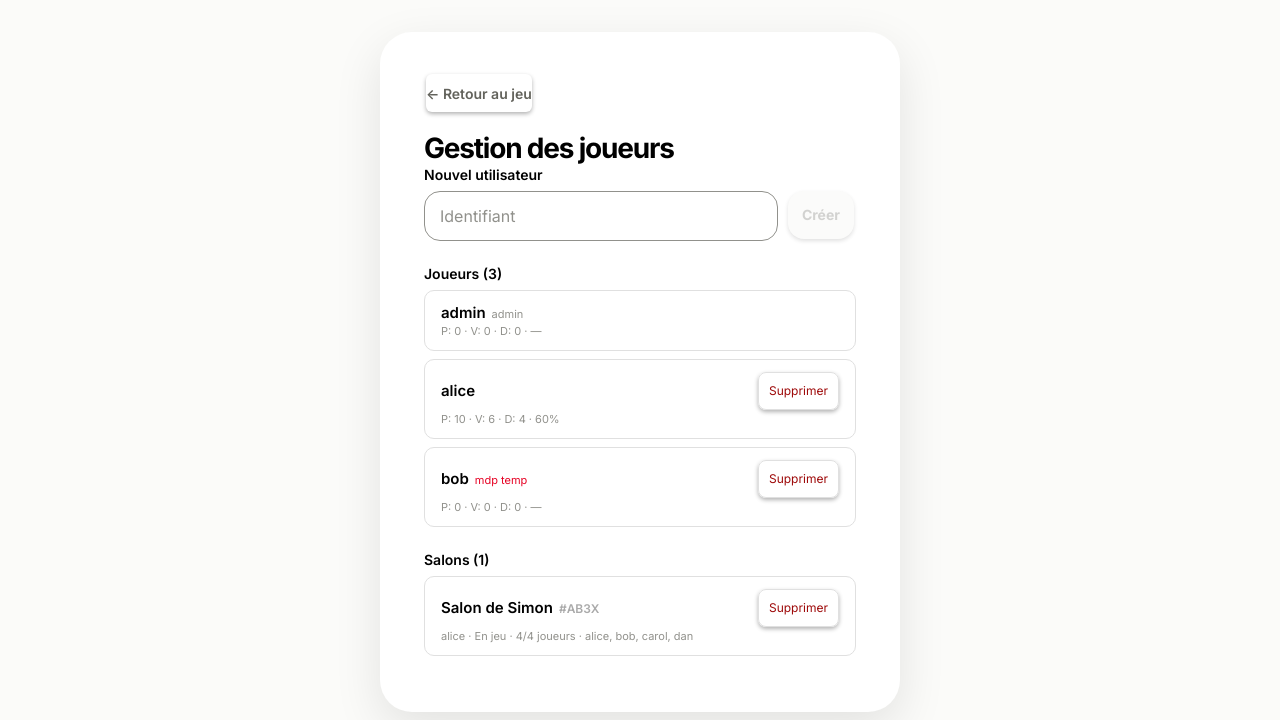
Test: AdminPanel › supprime un salon après confirmation et recharge la liste
Check: the text "Salon de Simon" is shown, box x1=441 y1=598 x2=553 y2=617
Click the button with aria-label "Supprimer le salon Salon de Simon". click: [798, 608]
box: x1=758 y1=589 x2=839 y2=627
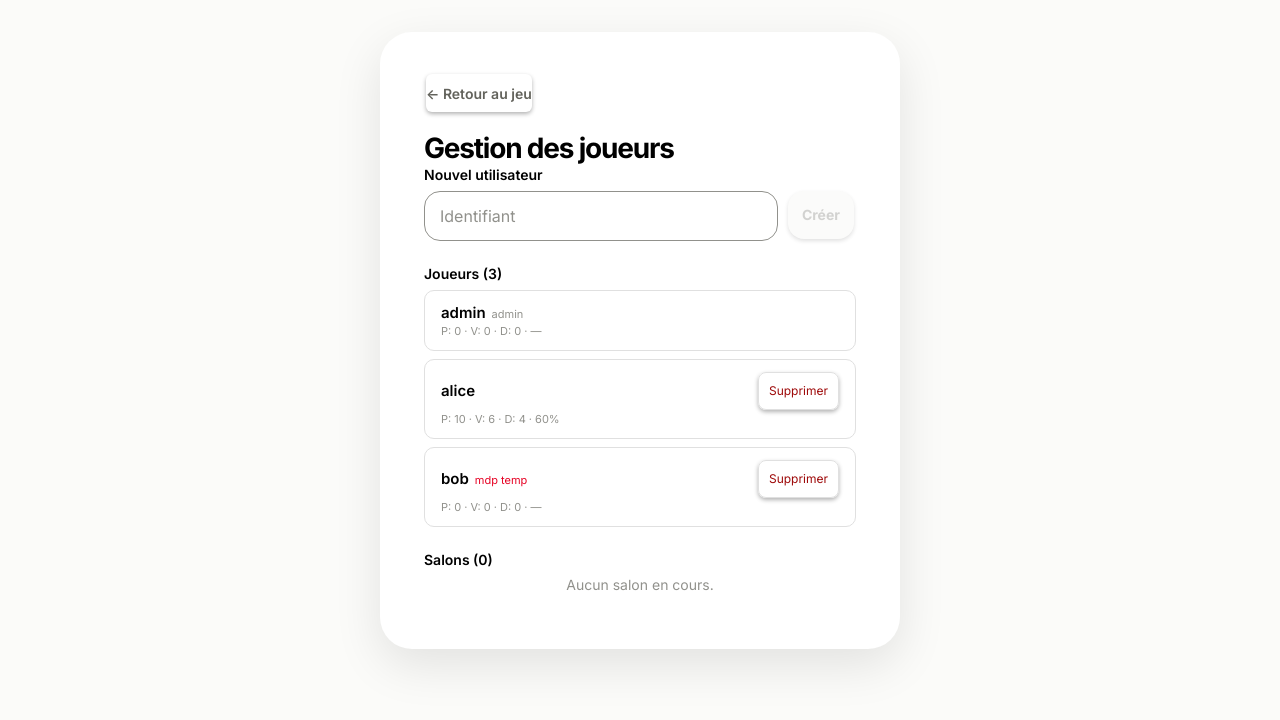
Check: the text "Salon de Simon" is gone
Check: the text "Aucun salon en cours." is shown, box x1=566 y1=576 x2=714 y2=593
